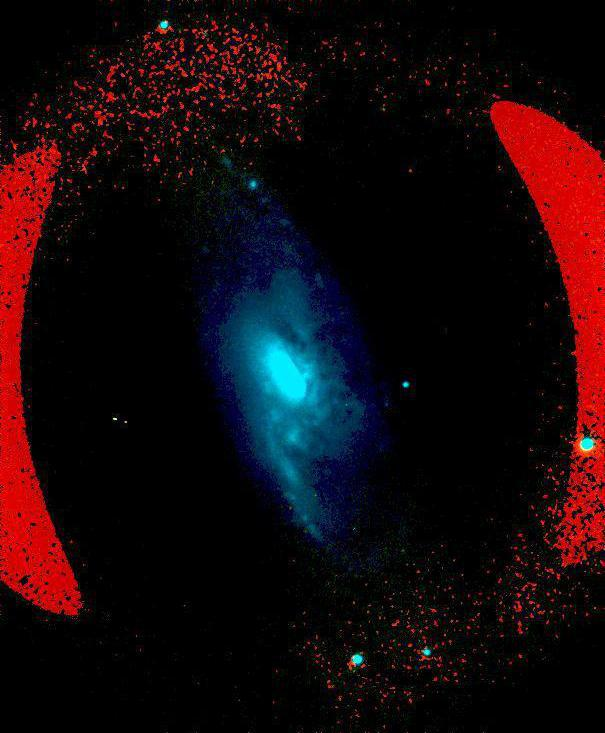star: (395, 157, 425, 187)
